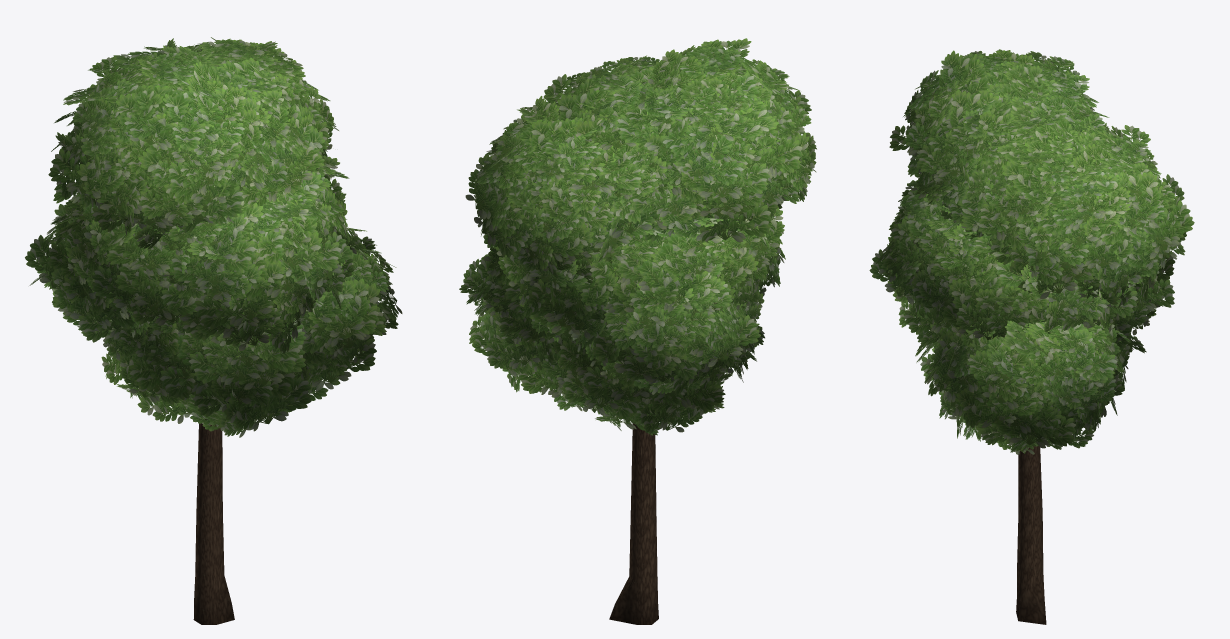
File: sundari_c_lod1.glb
3 renders of one model, left to right at view 1: azimuth 30°, elevation 25°; view 2: azimuth 150°, elevation 25°; view 3: azimuth 270°, elevation 25°, orthographic. The views are drawn at different scales.
Parts seen in each view (by area): view 1: leaves, wood; view 2: leaves, wood; view 3: leaves, wood.
Boxes of the visible parts, left/top/right/bottom form: leaves: left=25, top=37, right=402, bottom=437; wood: left=193, top=419, right=234, bottom=624; leaves: left=459, top=38, right=816, bottom=435; wood: left=609, top=423, right=658, bottom=624; leaves: left=869, top=49, right=1194, bottom=454; wood: left=1016, top=445, right=1046, bottom=624.
Bounding box in the file's own units: 10.54 × 17.81 × 10.08.
Materials: 2 (2 with a texture image).
